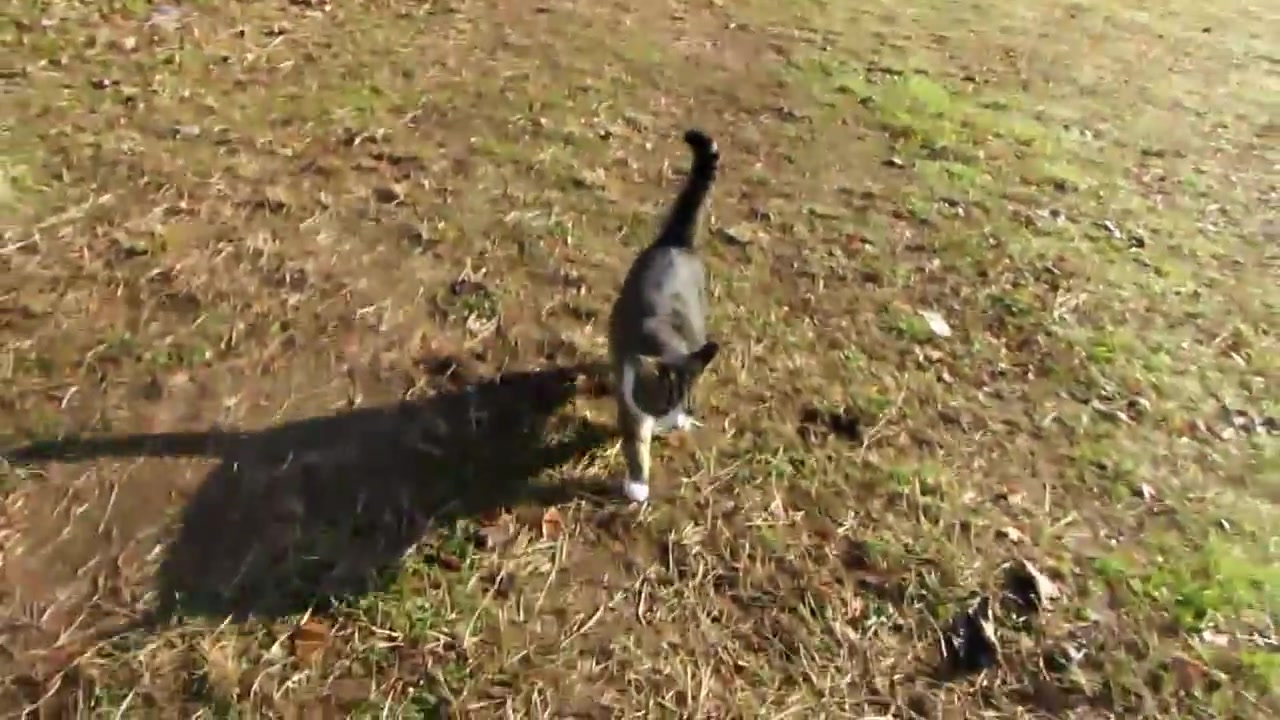cat: (606, 126, 730, 507)
